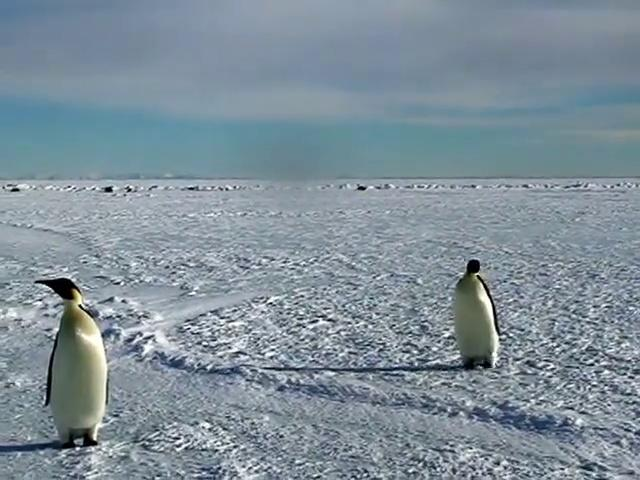animal: (36, 278, 107, 447)
